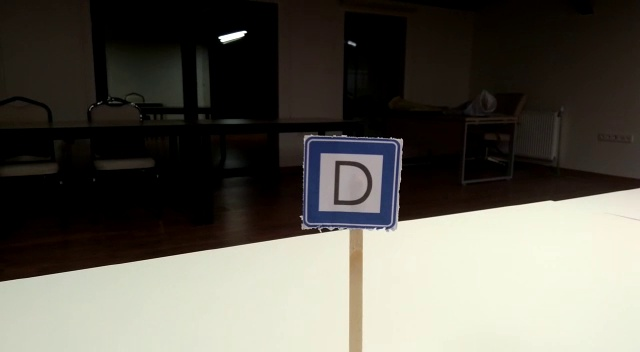durak: (304, 138, 402, 226)
